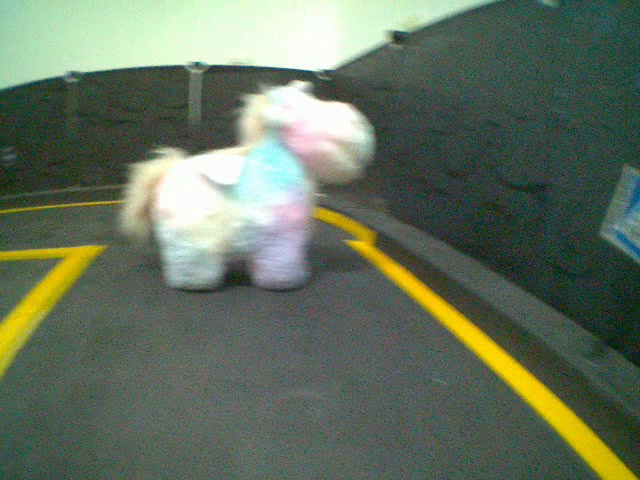unicorn: (117, 76, 378, 295)
